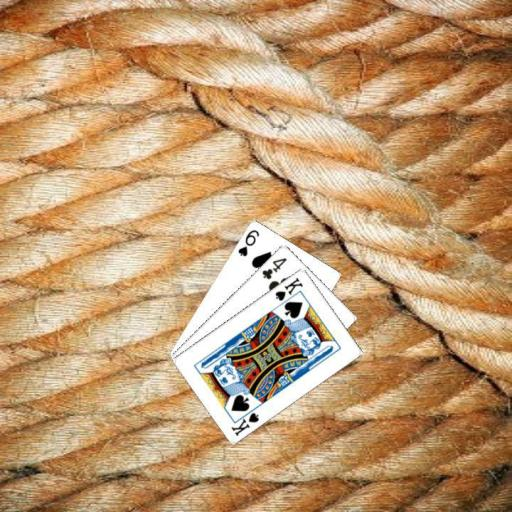4C: (259, 254, 288, 281)
6S: (235, 226, 261, 258)
KS: (229, 404, 261, 438), (272, 274, 304, 302)
